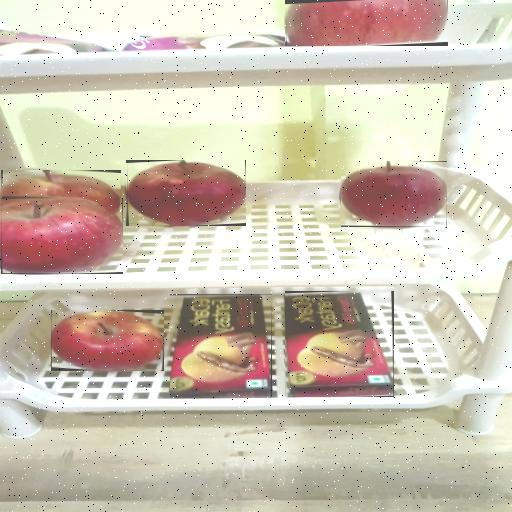Apple: (1, 198, 123, 274), (127, 160, 246, 226), (286, 0, 448, 46), (341, 161, 447, 227), (51, 310, 164, 370), (2, 170, 120, 216)
Choco Fills: (285, 292, 393, 397), (170, 295, 271, 397)
